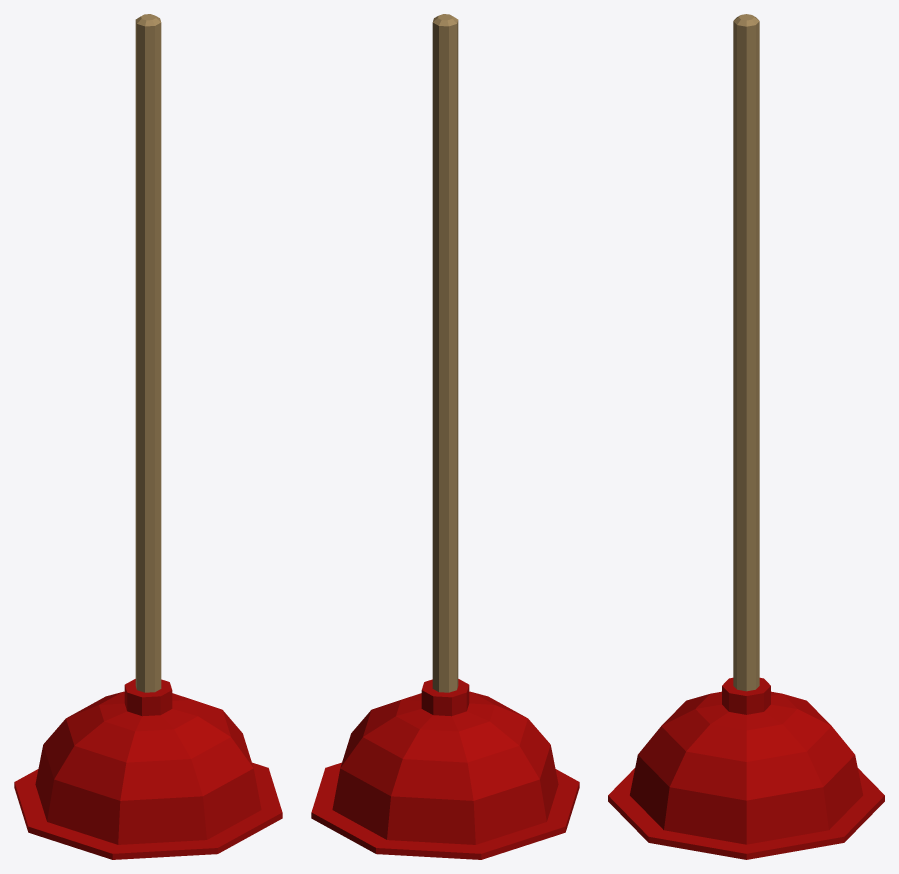
File: plunger.obj
3 views of the same model, side by side, from view 1: azimuth 30°, elevation 25°; view 2: azimuth 150°, elevation 25°; view 3: azimuth 270°, elevation 25° (orthographic).
Size of the model in its own units: 2.54 by 7.95 by 2.54.
